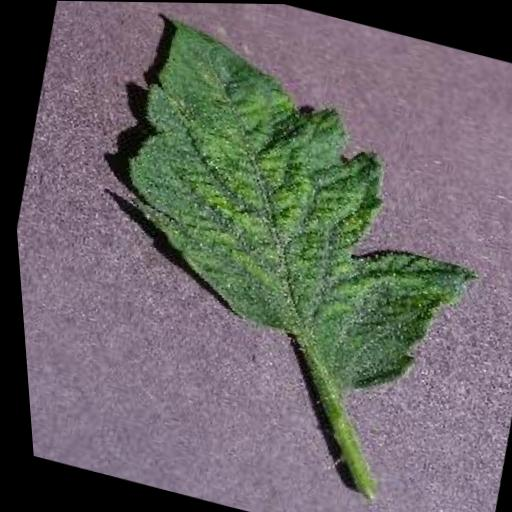Mosaic Virus: (67, 3, 512, 419)
